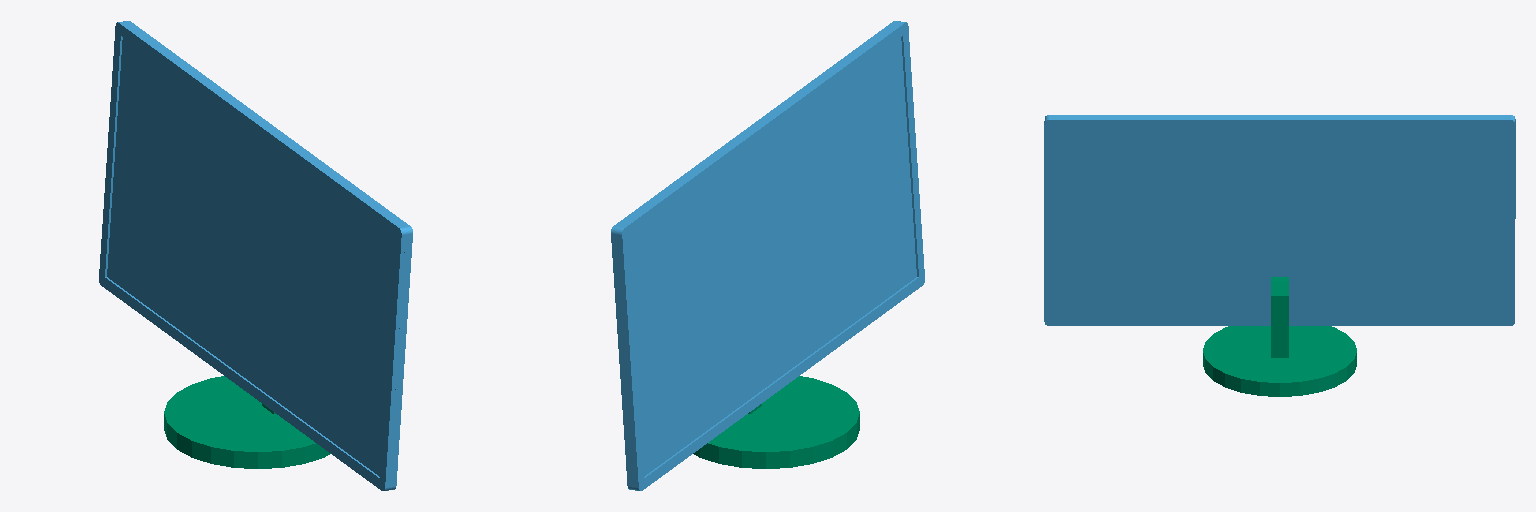
The robot description file, URDF, robot "partnet_2711433532f6d1fdd7426bda0fe4ebcb":
<?xml version="1.0" ?>
<robot name="partnet_2711433532f6d1fdd7426bda0fe4ebcb">
	<link name="base"/>
	<link name="link_0">
		<visual name="frame-6">
			<origin xyz="-0.07337099999999985 0.1917604430834301 0.011159581596992652"/>
			<geometry>
				<mesh filename="textured_objs/original-7.obj"/>
			</geometry>
		</visual>
		<visual name="frame-6">
			<origin xyz="-0.07337099999999985 0.1917604430834301 0.011159581596992652"/>
			<geometry>
				<mesh filename="textured_objs/original-6.obj"/>
			</geometry>
		</visual>
		<visual name="screen-7">
			<origin xyz="-0.07337099999999985 0.1917604430834301 0.011159581596992652"/>
			<geometry>
				<mesh filename="textured_objs/original-5.obj"/>
			</geometry>
		</visual>
		<collision>
			<origin xyz="-0.07337099999999985 0.1917604430834301 0.011159581596992652"/>
			<geometry>
				<mesh filename="textured_objs/original-7.obj"/>
			</geometry>
		</collision>
		<collision>
			<origin xyz="-0.07337099999999985 0.1917604430834301 0.011159581596992652"/>
			<geometry>
				<mesh filename="textured_objs/original-6.obj"/>
			</geometry>
		</collision>
		<collision>
			<origin xyz="-0.07337099999999985 0.1917604430834301 0.011159581596992652"/>
			<geometry>
				<mesh filename="textured_objs/original-5.obj"/>
			</geometry>
		</collision>
	</link>
	<joint name="joint_0" type="revolute">
		<origin xyz="0.07337099999999985 -0.1917604430834301 -0.011159581596992652"/>
		<axis xyz="-1 0 0"/>
		<child link="link_0"/>
		<parent link="link_1"/>
		<limit lower="-0.0" upper="0.3490658503988659"/>
	</joint>
	<link name="link_1">
		<visual name="base_support-4">
			<origin xyz="0 0 0"/>
			<geometry>
				<mesh filename="textured_objs/original-3.obj"/>
			</geometry>
		</visual>
		<visual name="surface-5">
			<origin xyz="0 0 0"/>
			<geometry>
				<mesh filename="textured_objs/original-2.obj"/>
			</geometry>
		</visual>
		<collision>
			<origin xyz="0 0 0"/>
			<geometry>
				<mesh filename="textured_objs/original-3.obj"/>
			</geometry>
		</collision>
		<collision>
			<origin xyz="0 0 0"/>
			<geometry>
				<mesh filename="textured_objs/original-2.obj"/>
			</geometry>
		</collision>
	</link>
	<joint name="joint_1" type="fixed">
		<origin rpy="1.570796326794897 0 -1.570796326794897" xyz="0 0 0"/>
		<child link="link_1"/>
		<parent link="base"/>
	</joint>
</robot>

--- Facts derived from the render (not from the file) ---
The picture shows the robot from 3 angles, left to right: view 1: azimuth 30°, elevation 25°; view 2: azimuth 150°, elevation 25°; view 3: azimuth 270°, elevation 25°; orthographic projection.
Robot: partnet_2711433532f6d1fdd7426bda0fe4ebcb — 3 links, 2 joints (1 revolute, 1 fixed); root link base; default pose: all joints at 0.
Visible links, largest first — view 1: link_0, link_1; view 2: link_0, link_1; view 3: link_0, link_1.
Link boxes in pixels (bbox=[...]): link_0: bbox=[99, 21, 412, 490]; link_1: bbox=[164, 376, 330, 468]; link_0: bbox=[611, 21, 924, 490]; link_1: bbox=[693, 376, 859, 468]; link_0: bbox=[1044, 115, 1515, 325]; link_1: bbox=[1203, 277, 1356, 396].
Bounding box of the posed robot: 0.5945 × 1.81 × 1.06 m (x, y, z).
Meshes: 5 distinct files referenced, 5 mesh visuals loaded (5 OBJ).
